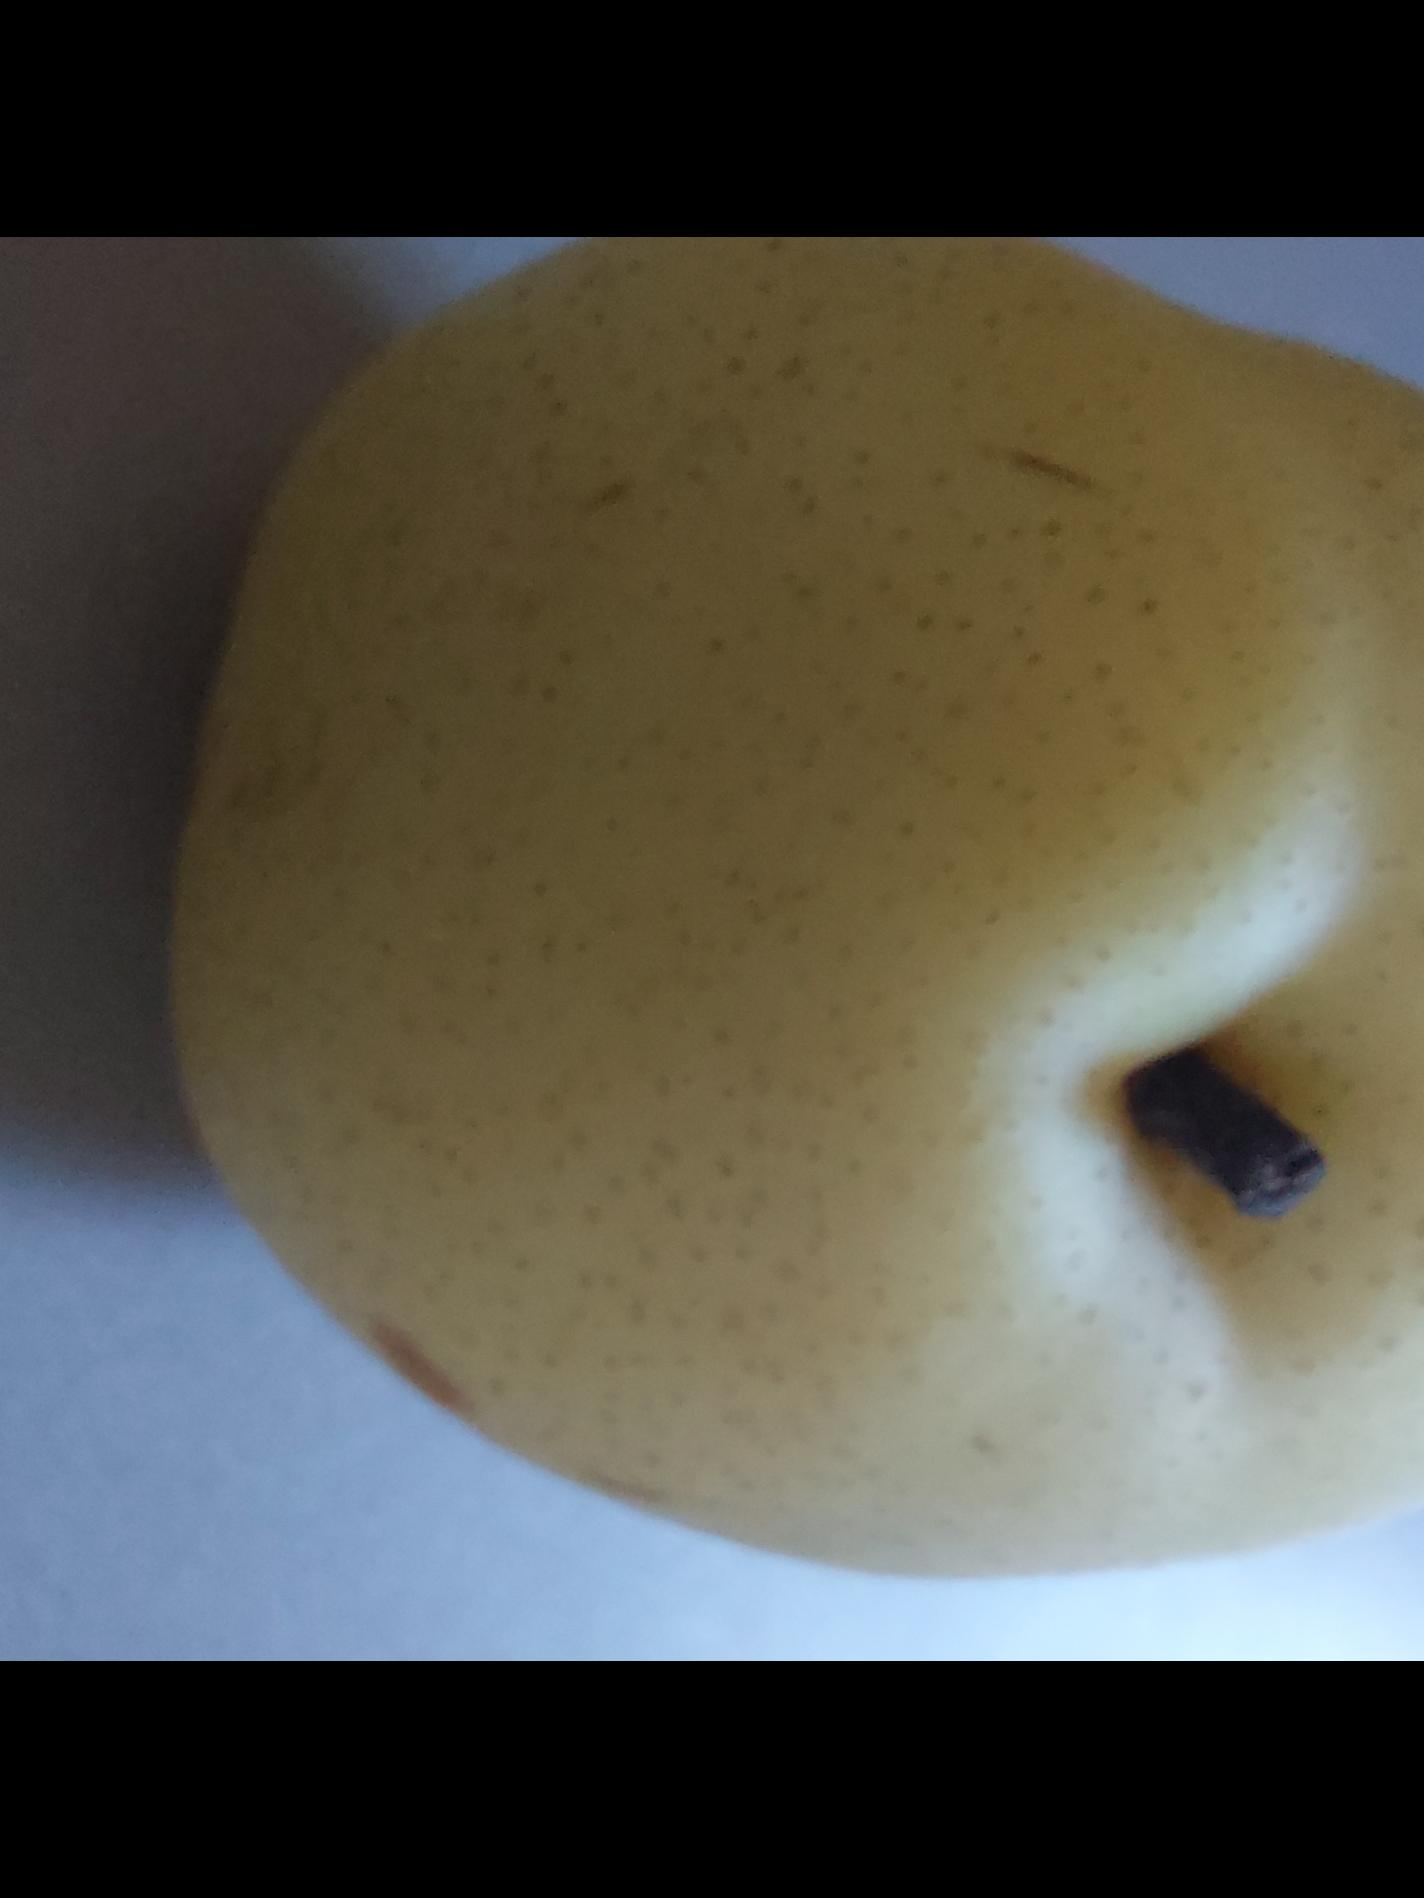Good Pear: (111, 236, 1424, 1662)
